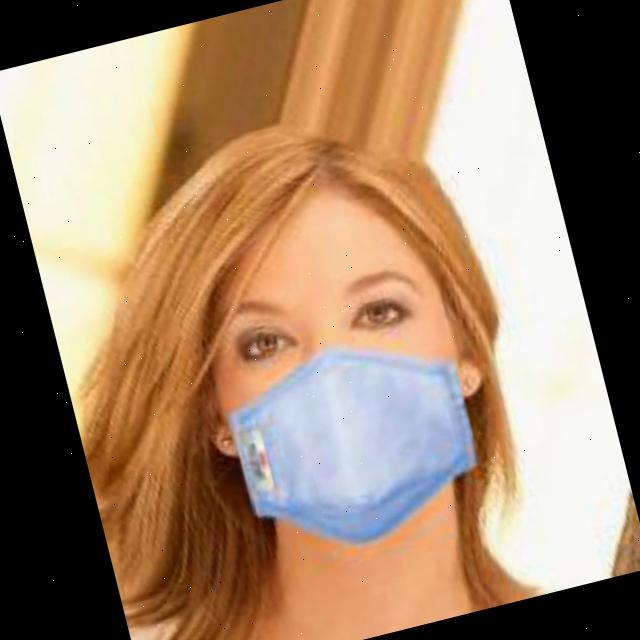suspicion: (145, 124, 519, 556)
